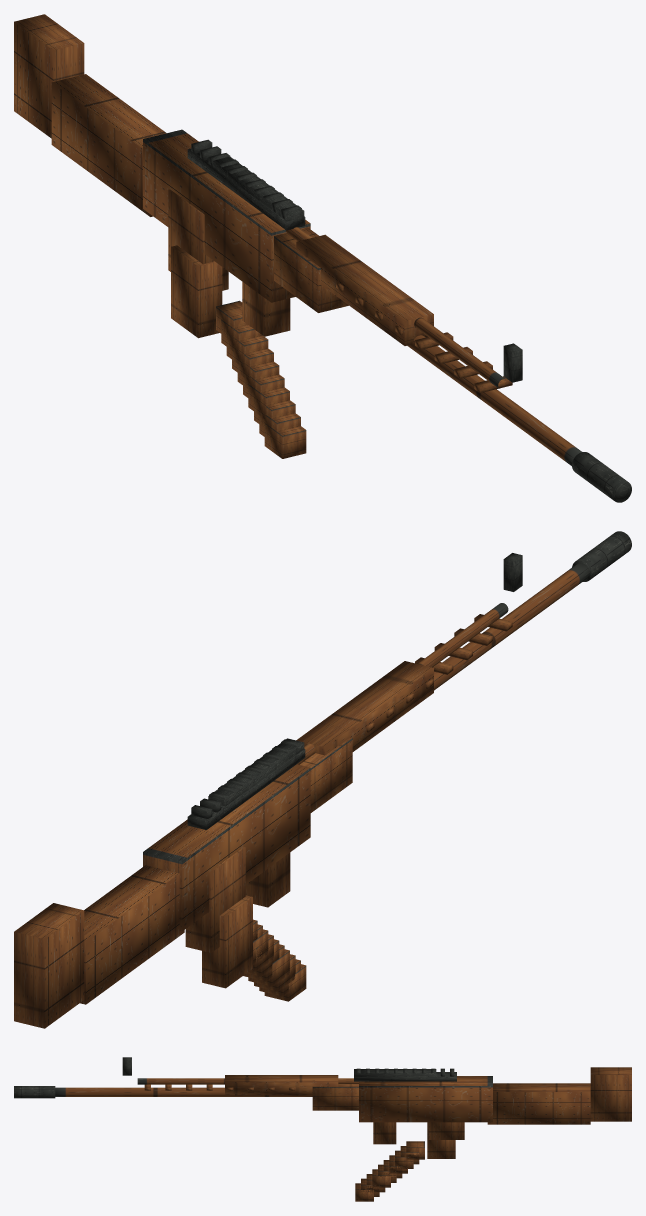
Rendered from akm.glb.
3 views of the same model, one above another, from view 1: azimuth 30°, elevation 25°; view 2: azimuth 150°, elevation 25°; view 3: azimuth 270°, elevation 25° (orthographic). The views are drawn at different scales.
Visible parts, largest first — view 1: akm; view 2: akm; view 3: akm.
Part boxes in pixels (bbox=[...]): akm: bbox=[14, 14, 631, 502]; akm: bbox=[14, 531, 631, 1028]; akm: bbox=[14, 1057, 631, 1201].
Size of the model in its own units: 0.055 by 0.3 by 1.2.
Materials: 1 (1 with a texture image).
